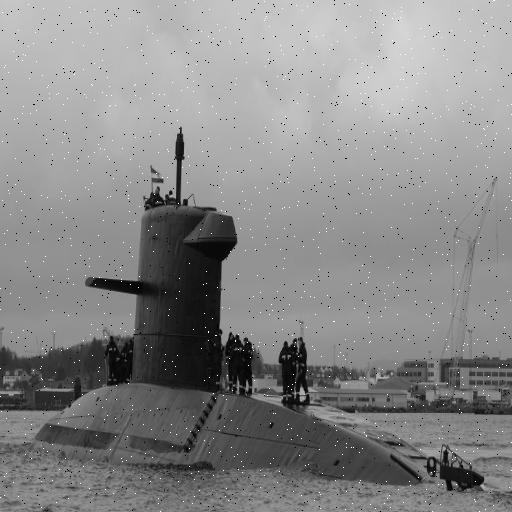submarine: (21, 203, 456, 488)
